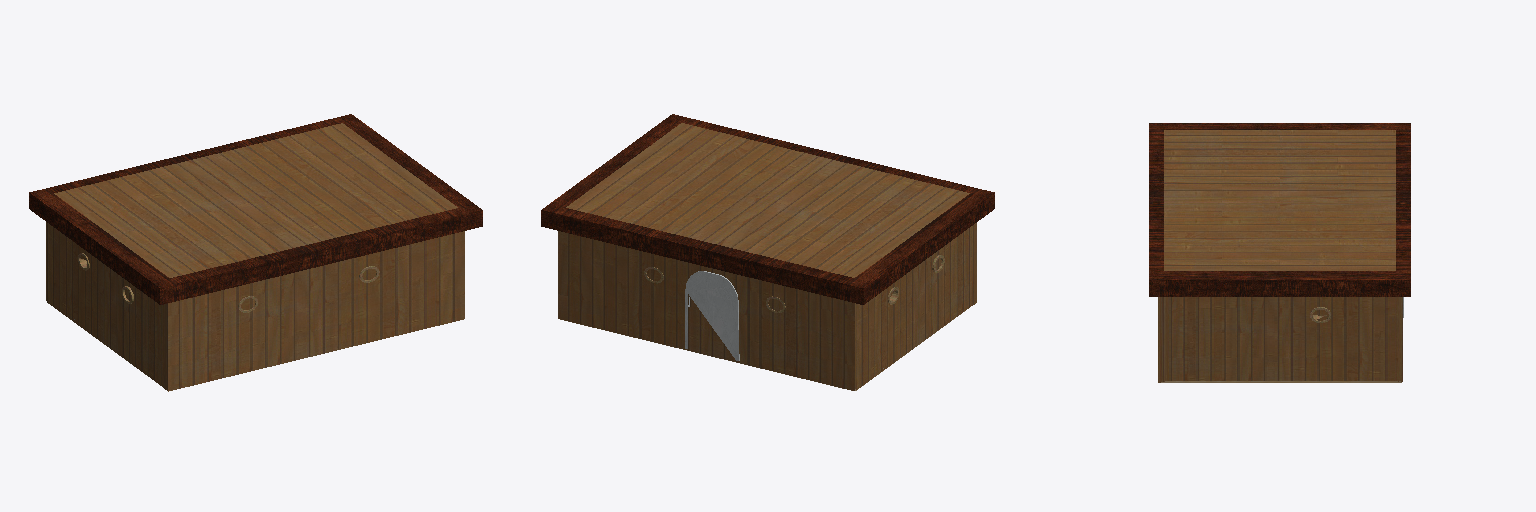
The picture shows the model from 3 angles: view 1: azimuth 30°, elevation 25°; view 2: azimuth 150°, elevation 25°; view 3: azimuth 270°, elevation 25°; orthographic projection.
Parts seen in each view (by area): view 1: polySurface266, polySurface317, rack_vino_pCube19 polySurface274; view 2: polySurface266, rack_vino_pCube19 polySurface314, rack_vino_pCube19 polySurface274, rack_vino_pCube19 polySurface268; view 3: polySurface266, rack_vino_pCube19 polySurface306, polySurface317.
Part boxes in pixels (x1,y1,x2,y2): polySurface266: (29,114,482,304); polySurface317: (163,231,464,391); rack_vino_pCube19 polySurface274: (47,223,162,386); polySurface266: (541,114,994,304); rack_vino_pCube19 polySurface314: (558,231,855,390); rack_vino_pCube19 polySurface274: (856,226,971,389); rack_vino_pCube19 polySurface268: (685,271,739,360); polySurface266: (1149,123,1410,296); rack_vino_pCube19 polySurface306: (1169,297,1397,380); polySurface317: (1158,297,1168,382).
Size of the model in its own units: 8.48 by 2.79 by 5.98.
Materials: 16 (10 with a texture image).